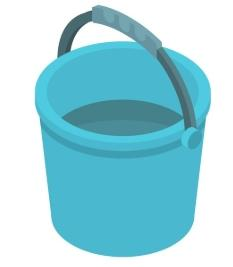SEAU: (14, 0, 219, 261)
